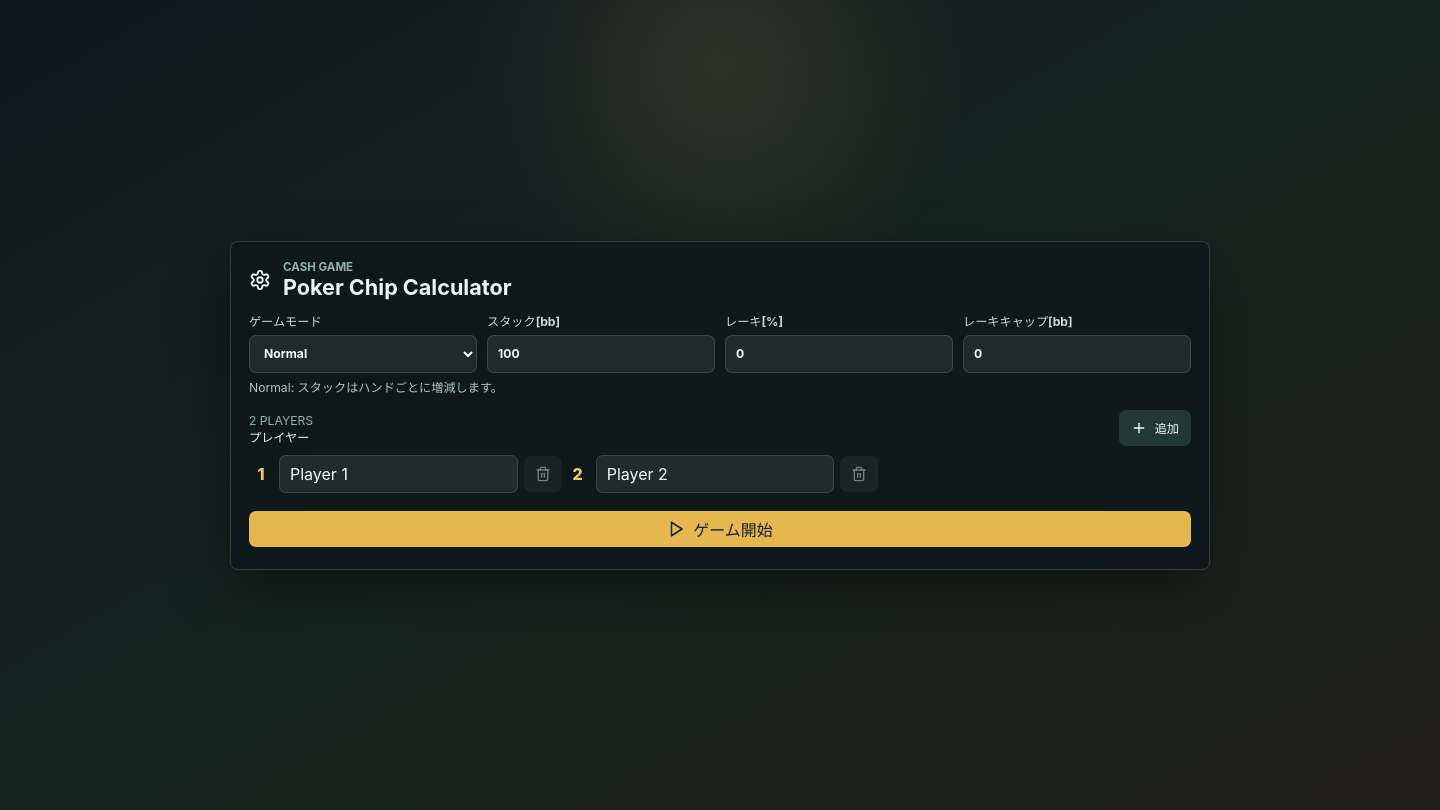
Test: App › disables stack editing controls in fixed stack mode
Step 1. Select "スタック固定" in the dropdown → (363, 354), box [249, 334, 477, 372]
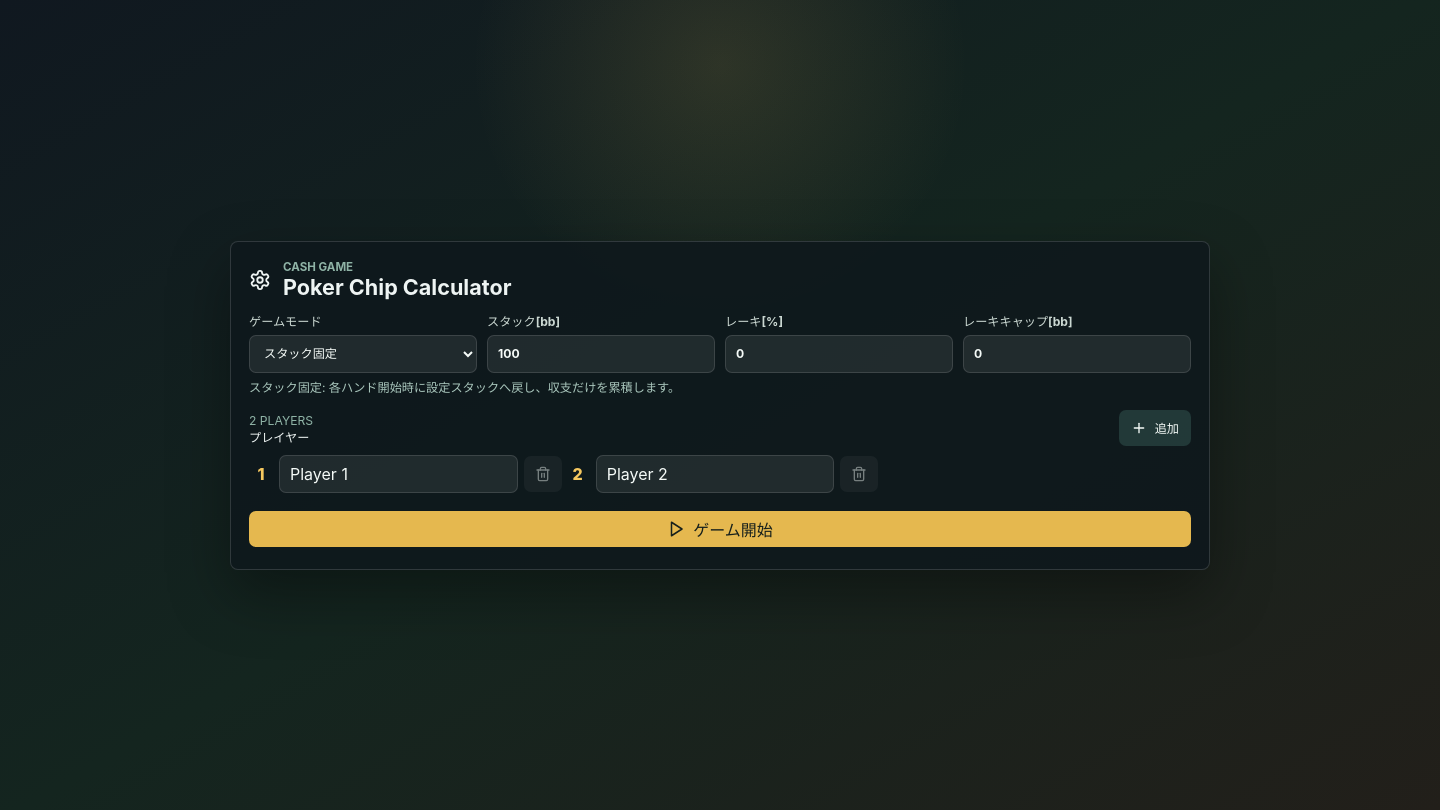
Step 2. Click the button "ゲーム開始" → (720, 528), box [249, 510, 1191, 546]
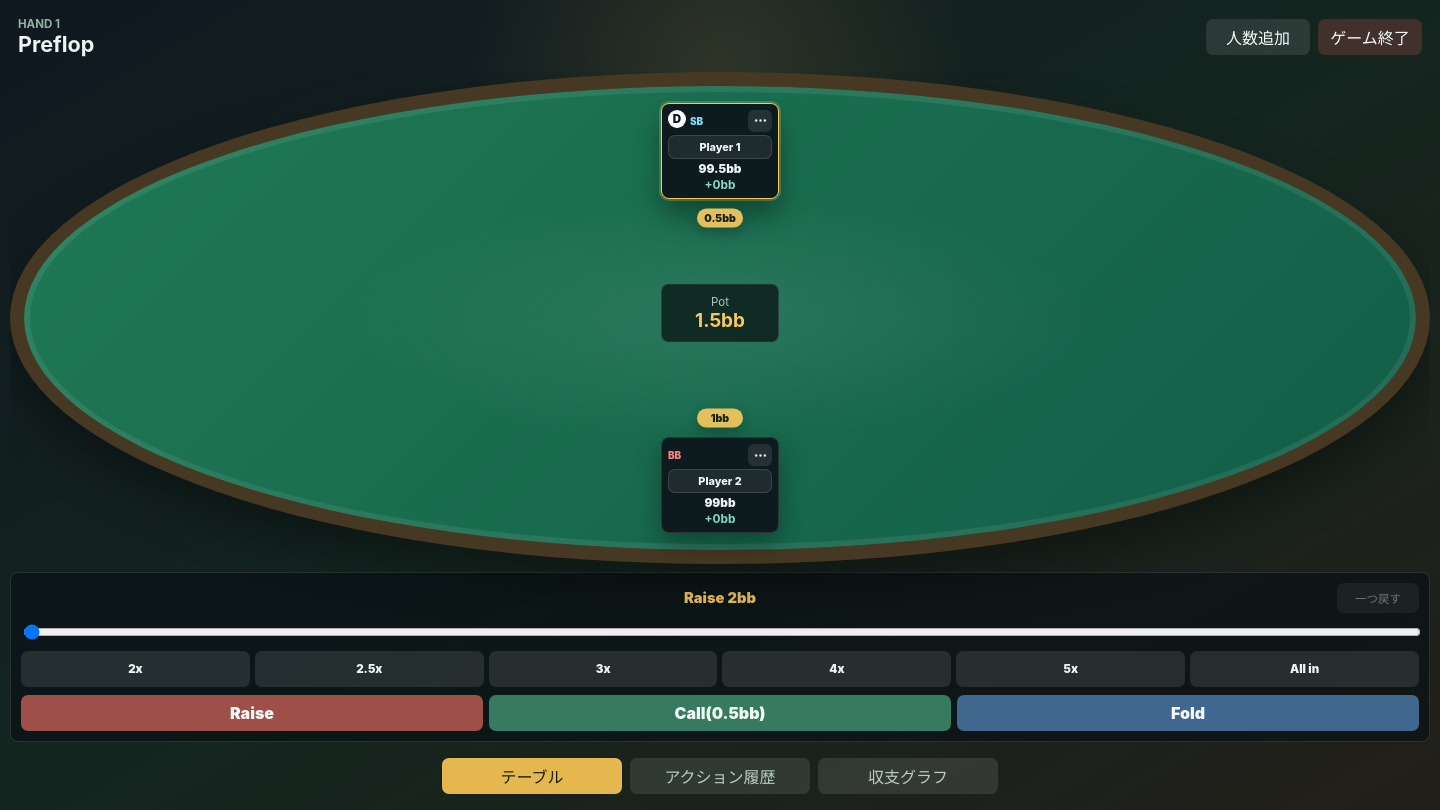
Step 3. Click the button titled "プレイヤー操作" next to "SB" → (760, 121), box [748, 110, 772, 132]
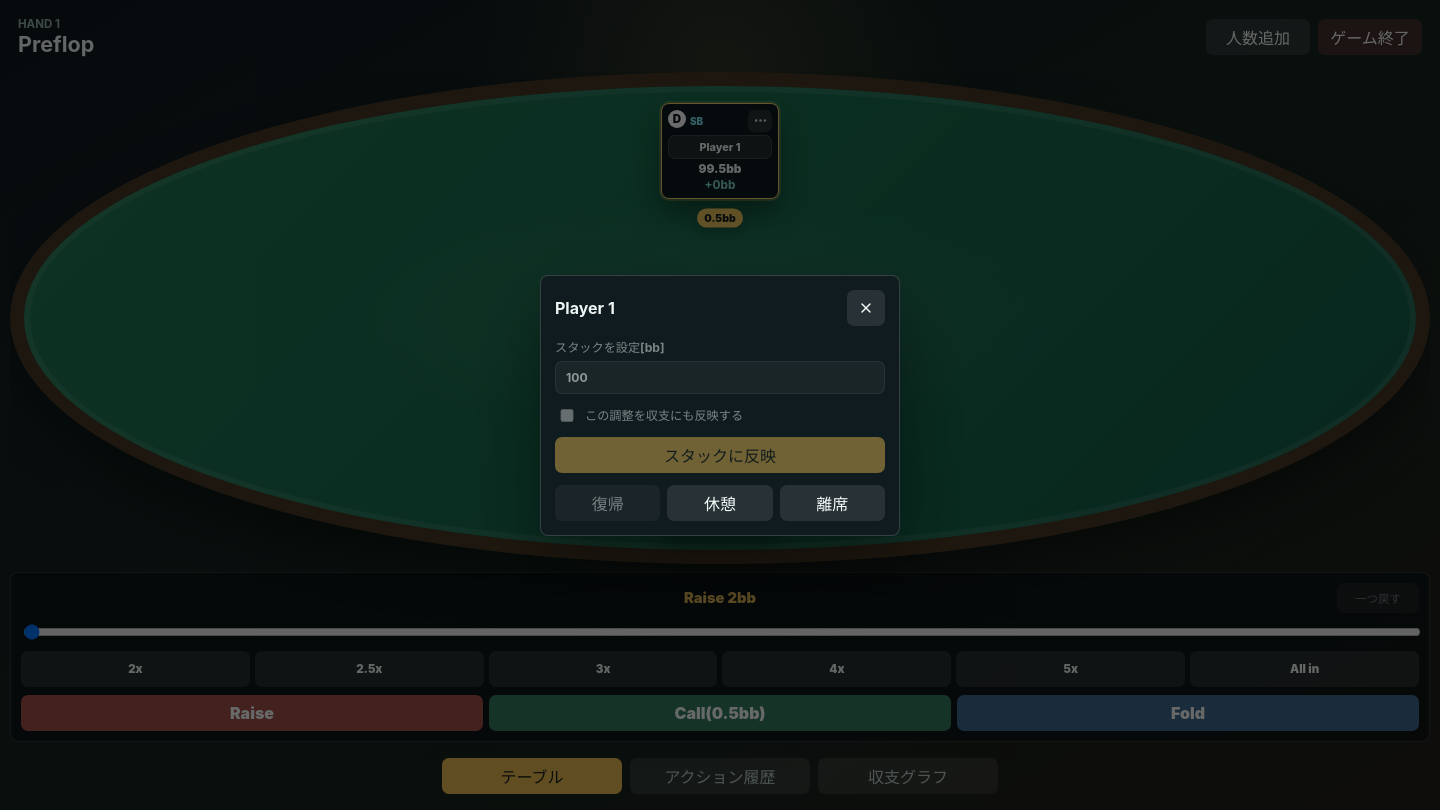
Expected: the number field labelled "スタックを設定[bb]" is disabled, [555, 360, 885, 394]
Expected: the checkbox labelled "この調整を収支にも反映する" is disabled, [559, 408, 575, 422]
Expected: the button "スタックに反映" is disabled, [555, 436, 885, 472]
